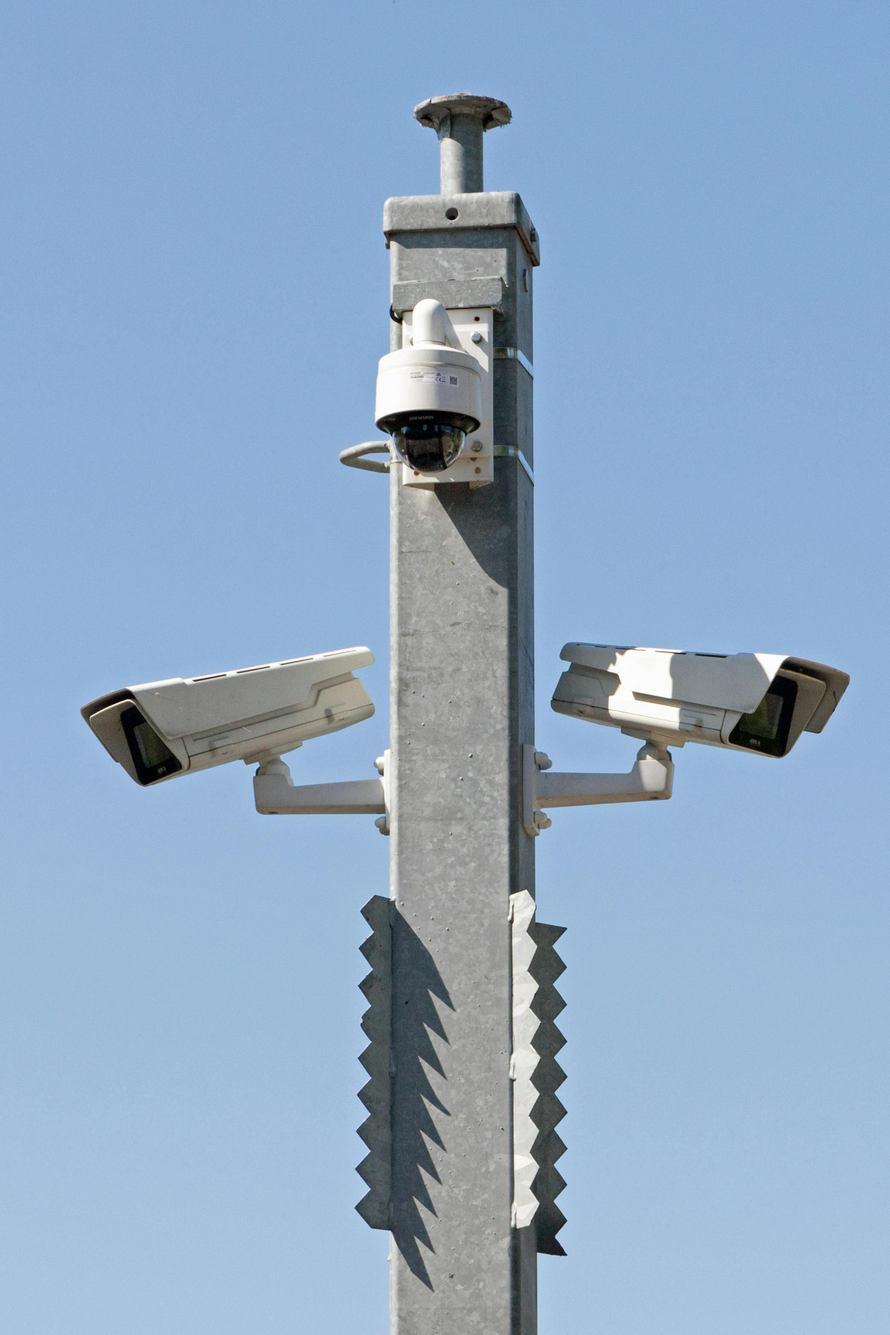camera: (503, 567, 878, 874), (55, 597, 418, 895), (268, 251, 541, 537)
